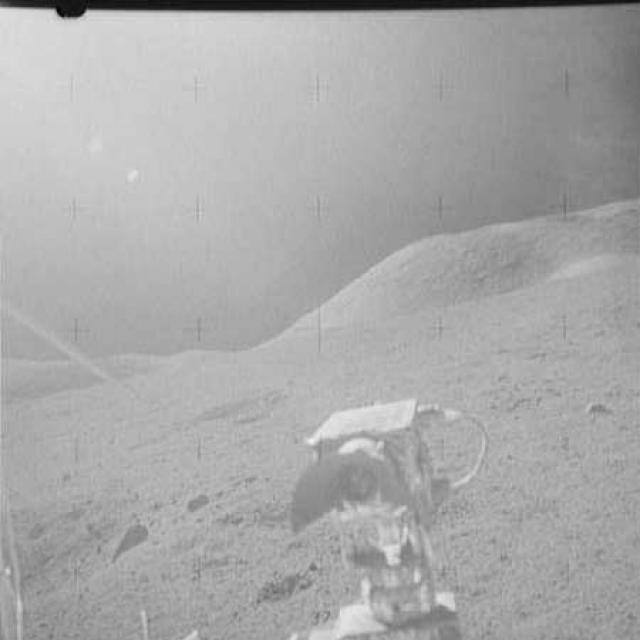artifact: (280, 401, 504, 639), (5, 291, 152, 414)
crater: (0, 508, 182, 598)
rock: (108, 525, 148, 564)
